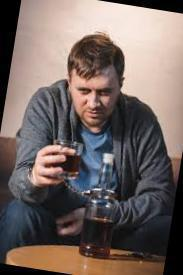Drunk: (76, 68, 116, 126)
